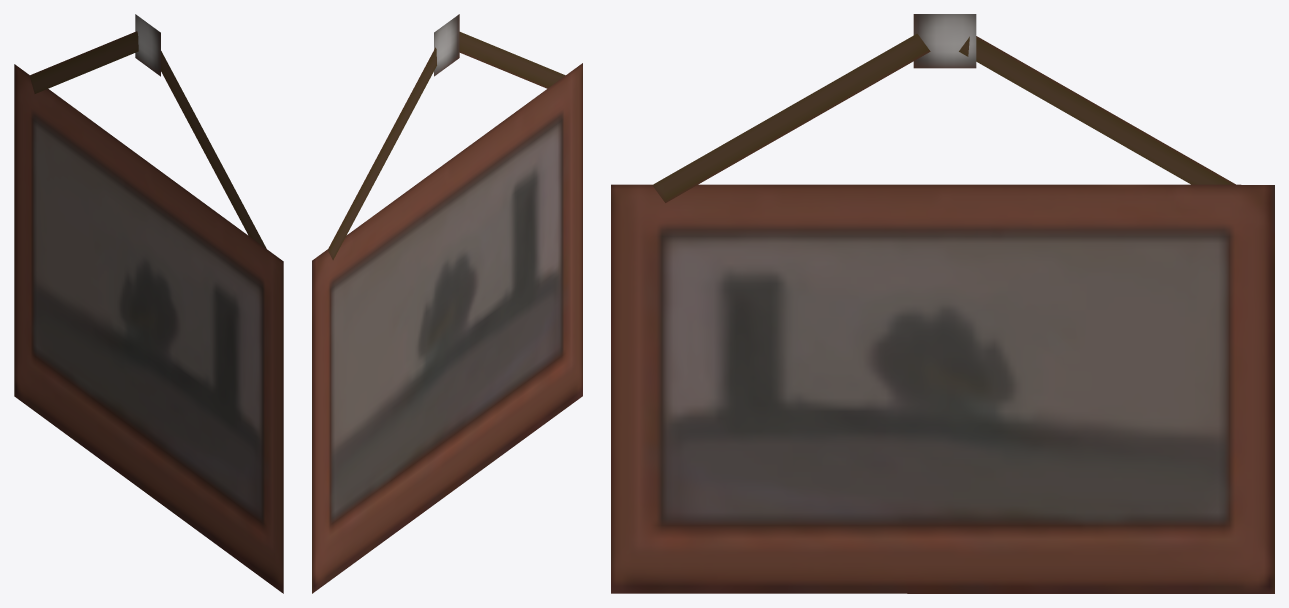
File: XiangKuang01.FBX
3 renders of one model, left to right at view 1: azimuth 30°, elevation 25°; view 2: azimuth 150°, elevation 25°; view 3: azimuth 270°, elevation 25°, orthographic. The views are drawn at different scales.
Parts seen in each view (by area): view 1: 对象041; view 2: 对象041; view 3: 对象041.
Part boxes in pixels (x1=…): 对象041: x1=14, y1=14, x2=283, y2=593; 对象041: x1=312, y1=14, x2=582, y2=593; 对象041: x1=611, y1=14, x2=1274, y2=593.
Size of the model in its own units: 0.0389 by 34.78 by 36.09.
